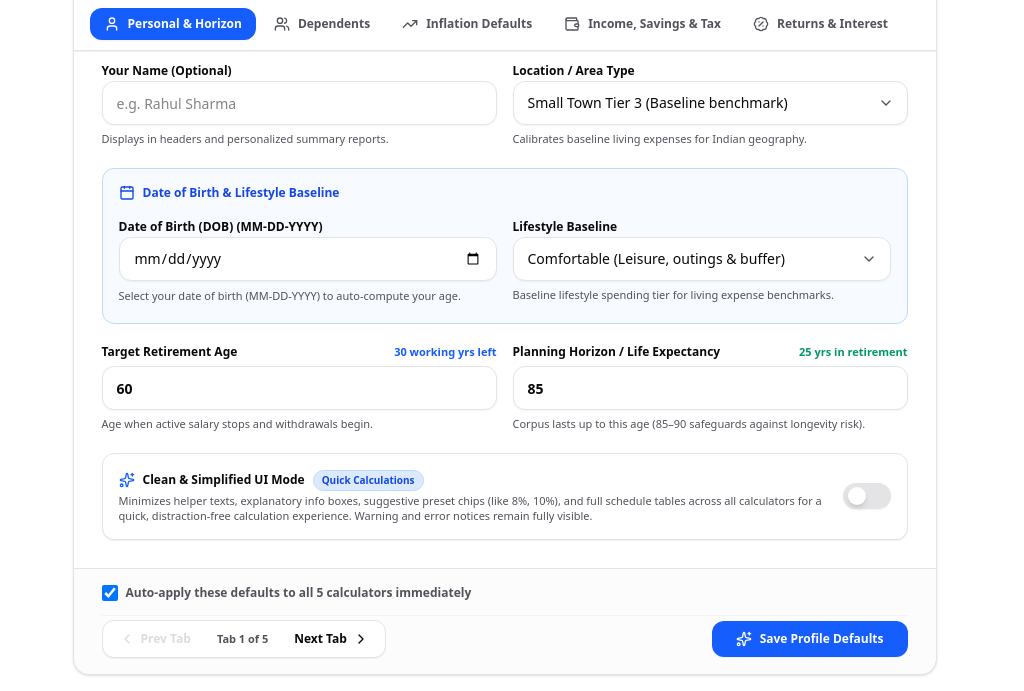
ProfilePage Tab Navigation and Sticky Tabs › navigates through tabs sequentially using Next Tab and Prev Tab buttons
The width and height of the screenshot is (1024, 691).
(page scrolled)
Click the button with aria-label "Next tab".
click(332, 639)  # box [282, 625, 381, 653]
(page scrolled)
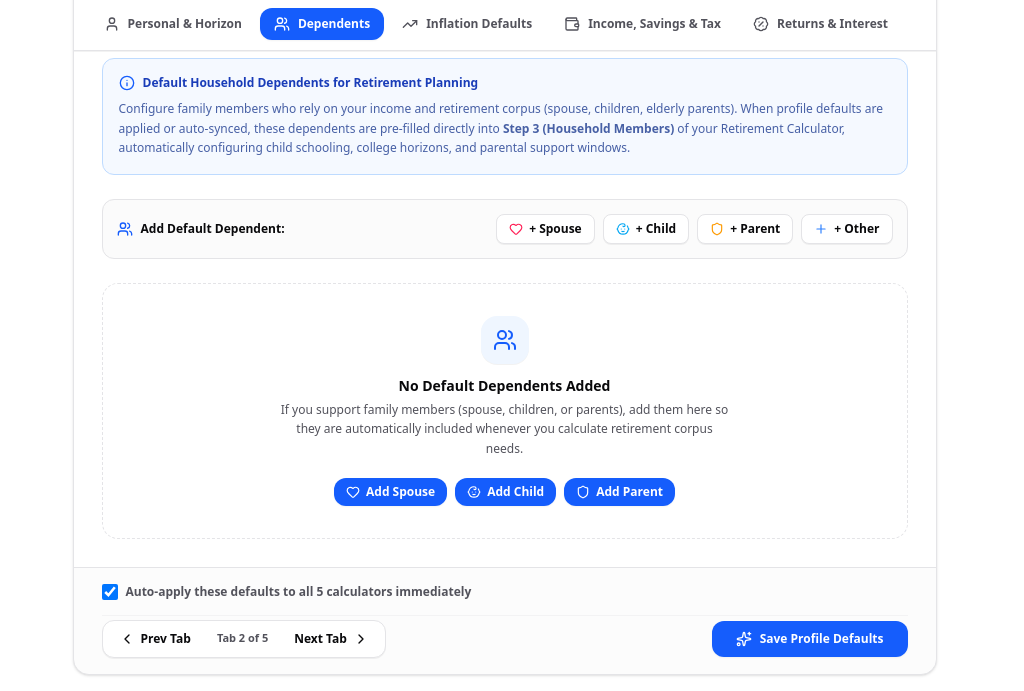
Now the text "Tab 2 of 5" is shown, box [217, 630, 268, 645]
Now the button with aria-label "Previous tab" is enabled, box [106, 625, 203, 653]
Now the text "Default Household Dependents for Retirement Planning" is shown, box [142, 75, 478, 91]
Click the button with aria-label "Next tab".
click(332, 639)  # box [282, 625, 381, 653]
(page scrolled)
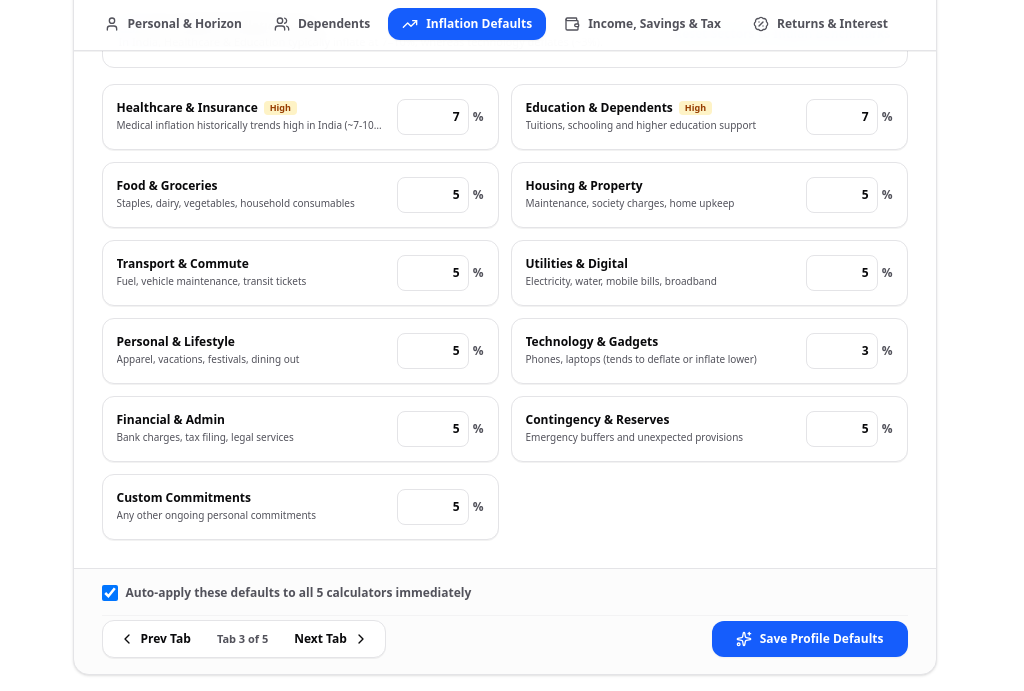
Now the text "Tab 3 of 5" is shown, box [217, 631, 268, 646]
Click the button with aria-label "Next tab".
click(332, 639)  # box [282, 625, 381, 653]
(page scrolled)
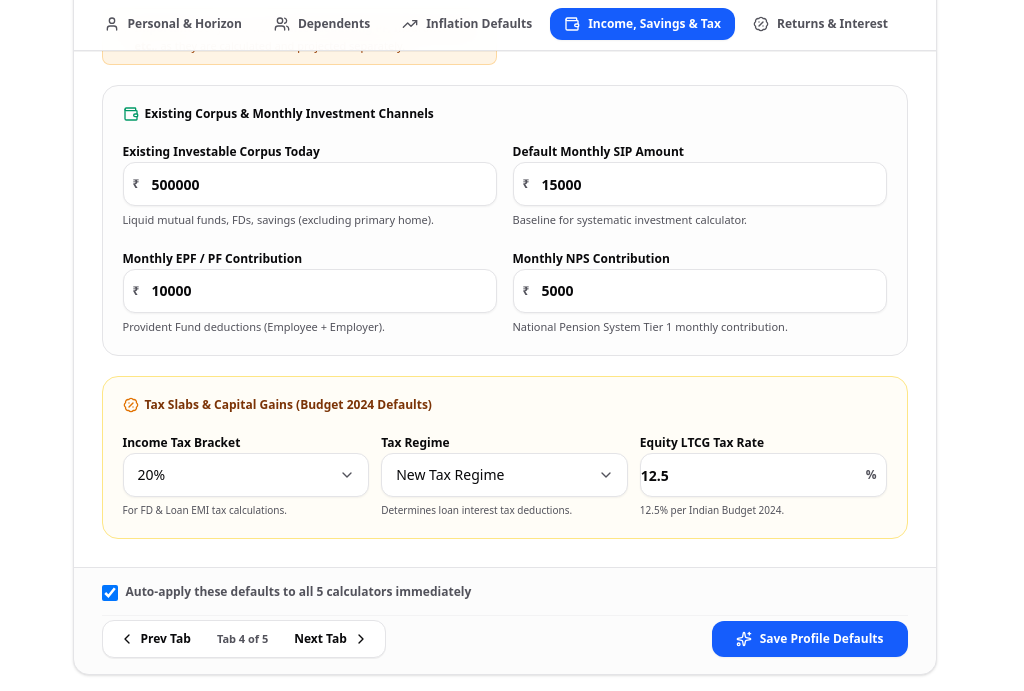
Now the text "Tab 4 of 5" is shown, box [217, 631, 268, 646]
Click the button with aria-label "Next tab".
click(332, 639)  # box [282, 625, 381, 653]
(page scrolled)
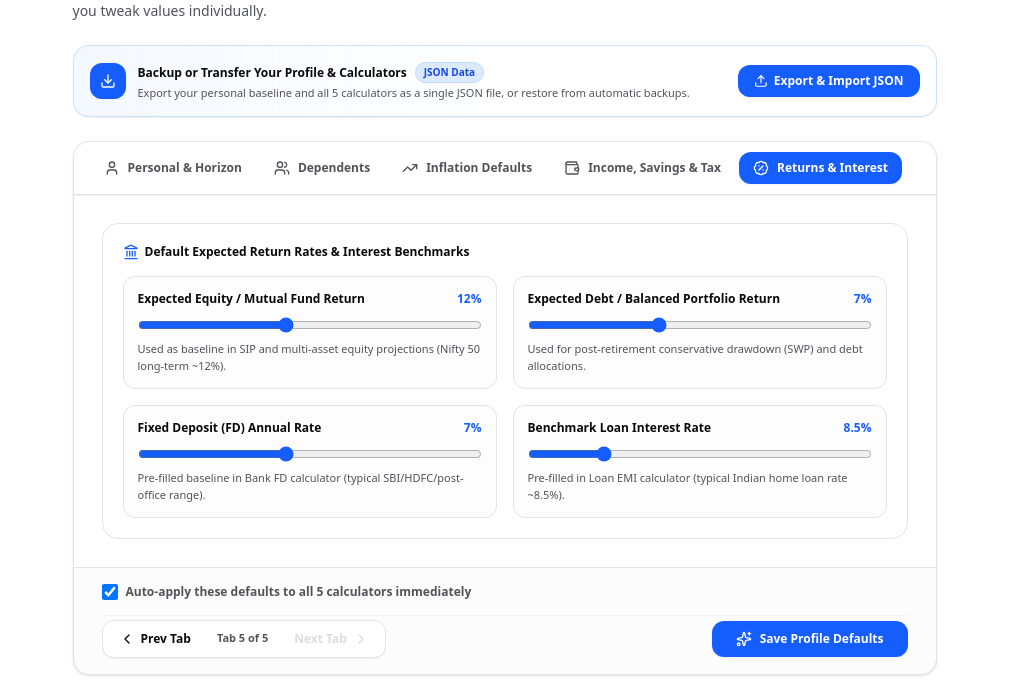
Now the text "Tab 5 of 5" is shown, box [217, 630, 268, 645]
Now the text "Default Expected Return Rates & Interest Benchmarks" is shown, box [144, 244, 469, 260]
Now the button with aria-label "Next tab" is disabled, box [282, 625, 381, 653]
Click the button with aria-label "Previous tab".
click(155, 639)  # box [106, 625, 203, 653]
(page scrolled)
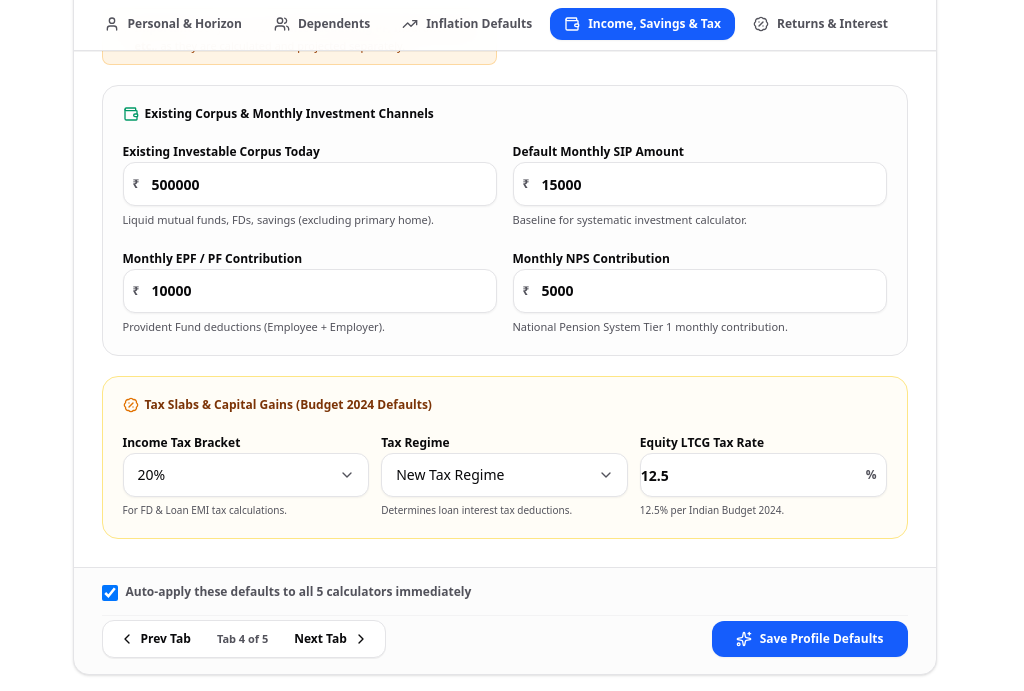
Now the text "Tab 4 of 5" is shown, box [217, 631, 268, 646]
Now the button with aria-label "Next tab" is enabled, box [282, 625, 381, 653]
